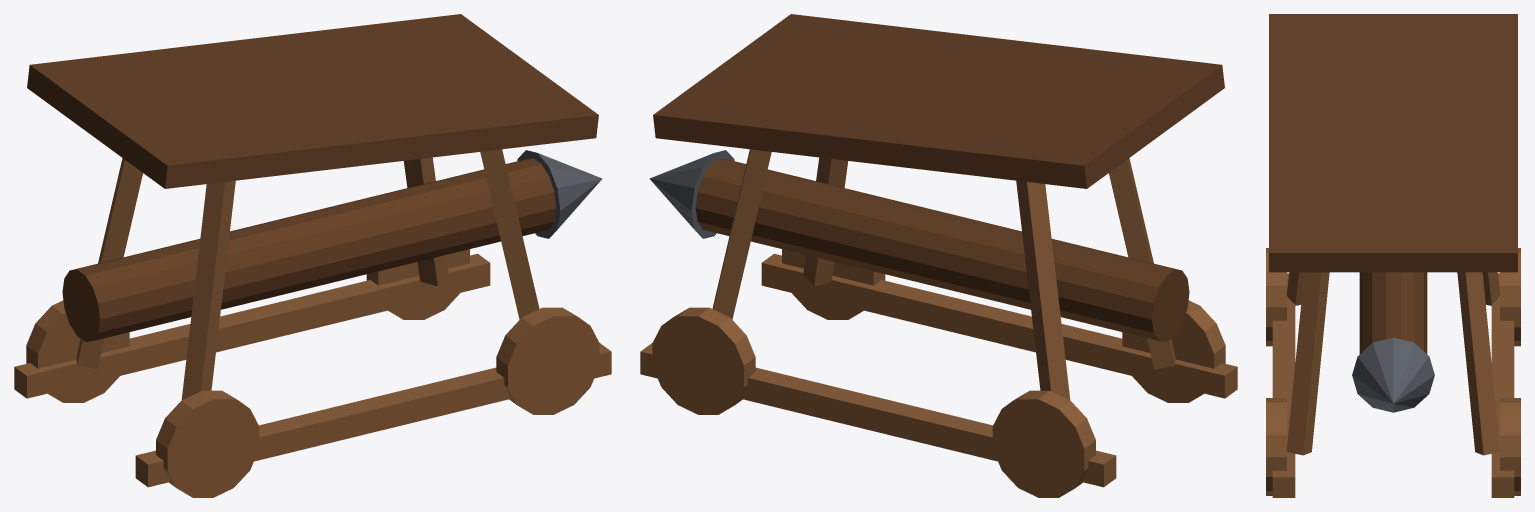
The model's file is SM_Siege_BatteringRam_A.fbx.
3 renders of one model, left to right at view 1: azimuth 30°, elevation 25°; view 2: azimuth 150°, elevation 25°; view 3: azimuth 270°, elevation 25°, orthographic. The views are drawn at different scales.
Visible parts, largest first — view 1: SM_Siege_BatteringRam_A_Roof, SM_Siege_BatteringRam_A_RamLog, SM_Siege_BatteringRam_A_Base_R, SM_Siege_BatteringRam_A, SM_Siege_BatteringRam_A_Wheel_-2.35_-1.55, SM_Siege_BatteringRam_A_Wheel_2.35_-1.55, SM_Siege_BatteringRam_A_Post_-2.4_-1.25, SM_Siege_BatteringRam_A_Post_2.4_-1.25, SM_Siege_BatteringRam_A_Wheel_-2.35_1.55, SM_Siege_BatteringRam_A_Post_-2.4_1.25, SM_Siege_BatteringRam_A_IronTip, SM_Siege_BatteringRam_A_Wheel_2.35_1.55 (+1 smaller); view 2: SM_Siege_BatteringRam_A_Roof, SM_Siege_BatteringRam_A_RamLog, SM_Siege_BatteringRam_A, SM_Siege_BatteringRam_A_Base_R, SM_Siege_BatteringRam_A_Wheel_-2.35_1.55, SM_Siege_BatteringRam_A_Wheel_2.35_1.55, SM_Siege_BatteringRam_A_Post_-2.4_1.25, SM_Siege_BatteringRam_A_Post_2.4_1.25, SM_Siege_BatteringRam_A_Wheel_-2.35_-1.55, SM_Siege_BatteringRam_A_Post_-2.4_-1.25, SM_Siege_BatteringRam_A_IronTip, SM_Siege_BatteringRam_A_Wheel_2.35_-1.55 (+1 smaller); view 3: SM_Siege_BatteringRam_A_Roof, SM_Siege_BatteringRam_A_RamLog, SM_Siege_BatteringRam_A_IronTip, SM_Siege_BatteringRam_A_Post_2.4_-1.25, SM_Siege_BatteringRam_A_Post_2.4_1.25, SM_Siege_BatteringRam_A, SM_Siege_BatteringRam_A_Base_R, SM_Siege_BatteringRam_A_Wheel_2.35_-1.55, SM_Siege_BatteringRam_A_Wheel_2.35_1.55, SM_Siege_BatteringRam_A_Wheel_-2.35_-1.55, SM_Siege_BatteringRam_A_Wheel_-2.35_1.55, SM_Siege_BatteringRam_A_Post_-2.4_-1.25 (+1 smaller).
Part boxes in pixels (box(x1,y1,x2,y2)): SM_Siege_BatteringRam_A_Roof: box(27, 14, 598, 188); SM_Siege_BatteringRam_A_RamLog: box(62, 158, 556, 341); SM_Siege_BatteringRam_A_Base_R: box(14, 253, 490, 398); SM_Siege_BatteringRam_A: box(135, 343, 611, 487); SM_Siege_BatteringRam_A_Wheel_-2.35_-1.55: box(156, 390, 259, 497); SM_Siege_BatteringRam_A_Wheel_2.35_-1.55: box(496, 307, 599, 414); SM_Siege_BatteringRam_A_Post_-2.4_-1.25: box(181, 180, 235, 399); SM_Siege_BatteringRam_A_Post_2.4_-1.25: box(480, 149, 539, 319); SM_Siege_BatteringRam_A_Wheel_-2.35_1.55: box(26, 300, 129, 402); SM_Siege_BatteringRam_A_Post_-2.4_1.25: box(76, 158, 142, 369); SM_Siege_BatteringRam_A_IronTip: box(517, 150, 602, 238); SM_Siege_BatteringRam_A_Wheel_2.35_1.55: box(366, 249, 469, 319); SM_Siege_BatteringRam_A_Roof: box(653, 14, 1224, 188); SM_Siege_BatteringRam_A_RamLog: box(695, 158, 1189, 341); SM_Siege_BatteringRam_A: box(761, 253, 1237, 398); SM_Siege_BatteringRam_A_Base_R: box(640, 343, 1116, 487); SM_Siege_BatteringRam_A_Wheel_-2.35_1.55: box(992, 390, 1095, 497); SM_Siege_BatteringRam_A_Wheel_2.35_1.55: box(652, 307, 755, 414); SM_Siege_BatteringRam_A_Post_-2.4_1.25: box(1016, 180, 1070, 399); SM_Siege_BatteringRam_A_Post_2.4_1.25: box(712, 149, 771, 319); SM_Siege_BatteringRam_A_Wheel_-2.35_-1.55: box(1122, 300, 1225, 402); SM_Siege_BatteringRam_A_Post_-2.4_-1.25: box(1109, 158, 1175, 369); SM_Siege_BatteringRam_A_IronTip: box(649, 150, 734, 238); SM_Siege_BatteringRam_A_Wheel_2.35_-1.55: box(782, 249, 885, 319); SM_Siege_BatteringRam_A_Roof: box(1269, 14, 1517, 272); SM_Siege_BatteringRam_A_RamLog: box(1359, 272, 1427, 353); SM_Siege_BatteringRam_A_IronTip: box(1352, 337, 1434, 412); SM_Siege_BatteringRam_A_Post_2.4_-1.25: box(1287, 272, 1329, 455); SM_Siege_BatteringRam_A_Post_2.4_1.25: box(1457, 272, 1499, 455); SM_Siege_BatteringRam_A: box(1272, 273, 1295, 497); SM_Siege_BatteringRam_A_Base_R: box(1491, 273, 1514, 497); SM_Siege_BatteringRam_A_Wheel_2.35_-1.55: box(1266, 398, 1286, 495); SM_Siege_BatteringRam_A_Wheel_2.35_1.55: box(1500, 398, 1520, 495); SM_Siege_BatteringRam_A_Wheel_-2.35_-1.55: box(1266, 248, 1286, 346); SM_Siege_BatteringRam_A_Wheel_-2.35_1.55: box(1500, 248, 1520, 346); SM_Siege_BatteringRam_A_Post_-2.4_-1.25: box(1287, 272, 1304, 305).
Size of what is drawn, in the model's own units: 7.2 by 3.38 by 4.51.
